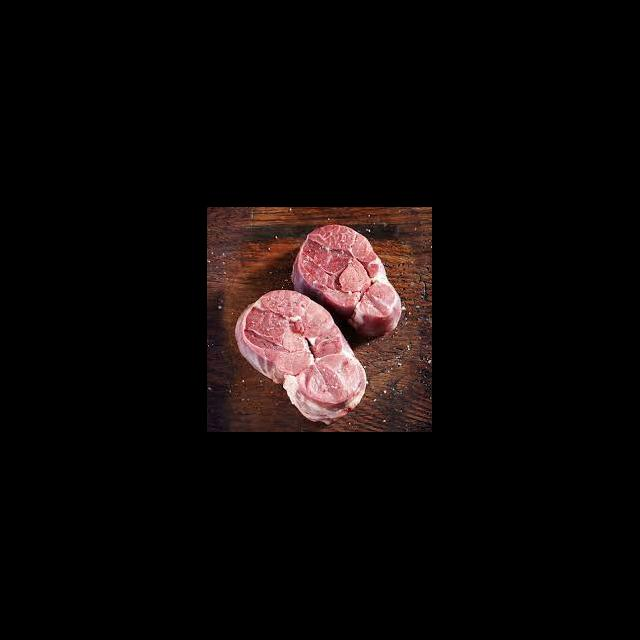beef: (232, 289, 368, 422), (292, 224, 402, 334)
